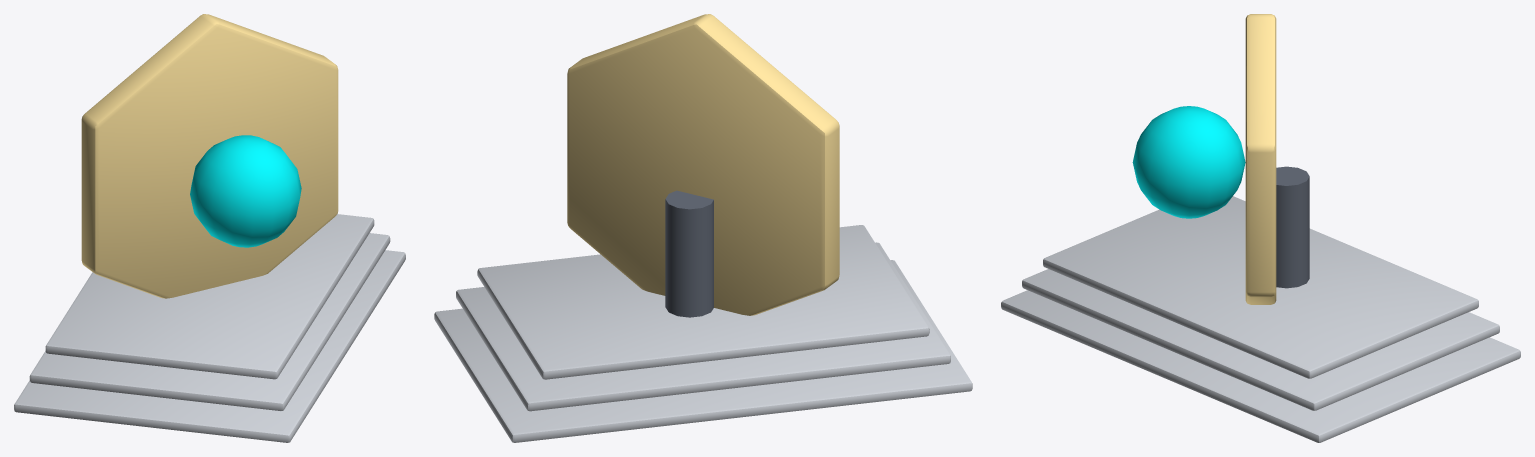
Rendered from lagrange_telescope.glb.
3 renders of one model, left to right at view 1: azimuth 30°, elevation 25°; view 2: azimuth 150°, elevation 25°; view 3: azimuth 270°, elevation 25°, orthographic. The views are drawn at different scales.
Parts seen in each view (by area): view 1: Cube; view 2: Cube; view 3: Cube.
Part boxes in pixels (left/top/right/bottom): Cube: left=14, top=14, right=405, bottom=442; Cube: left=434, top=14, right=972, bottom=442; Cube: left=1001, top=14, right=1520, bottom=442.
Bounding box in the file's own units: 1.01 × 0.6874 × 1.01.
